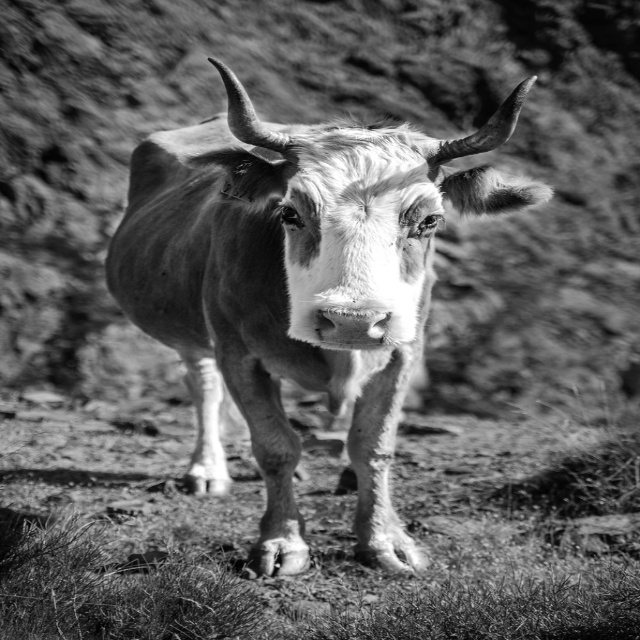Cattle: (106, 58, 556, 580)
